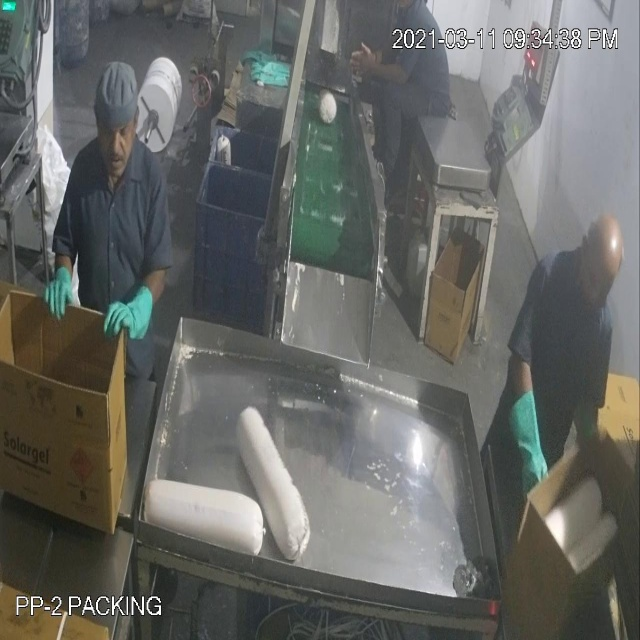Guantes: (513, 379, 550, 509)
Sin_guantes: (347, 40, 424, 100)
